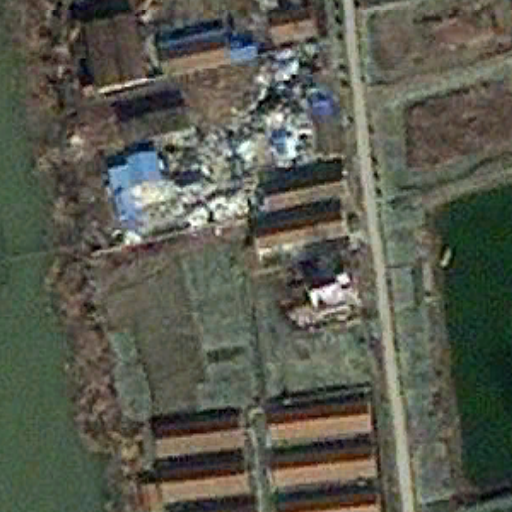msw: (130, 51, 318, 228)
